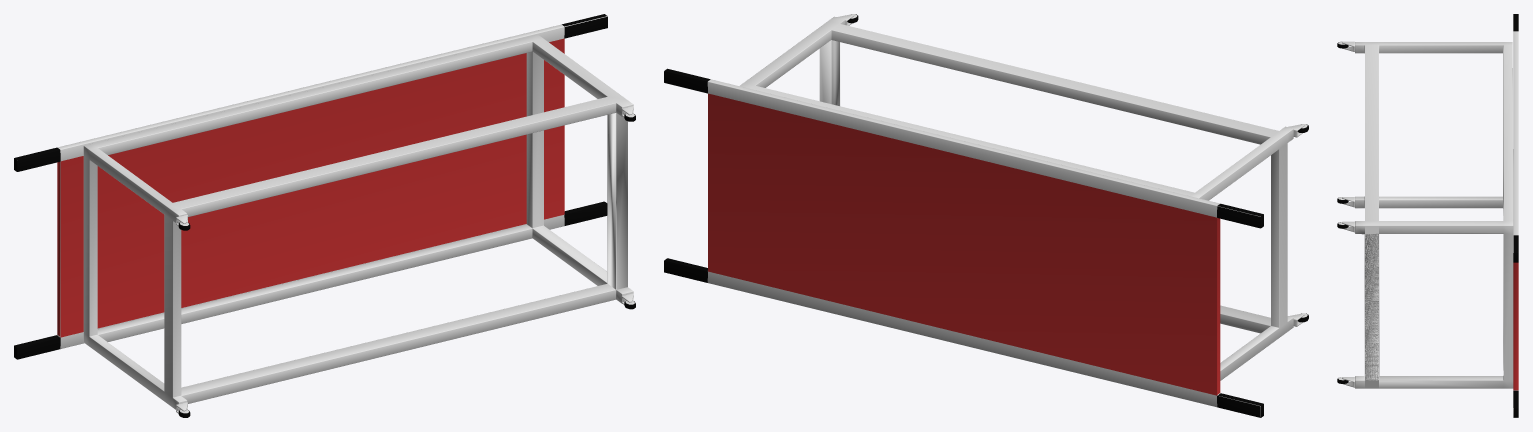
3 renders of one model, left to right at view 1: azimuth 30°, elevation 25°; view 2: azimuth 150°, elevation 25°; view 3: azimuth 270°, elevation 25°, orthographic. The views are drawn at different scales.
Parts seen in each view (by area): view 1: Cube; view 2: Cube; view 3: Cube.
Part boxes in pixels (x1,y1,x2,y2): Cube: (14, 14, 635, 417); Cube: (664, 14, 1308, 417); Cube: (1337, 14, 1518, 417).
Bounding box in the file's own units: 220 × 71 × 70.64.
